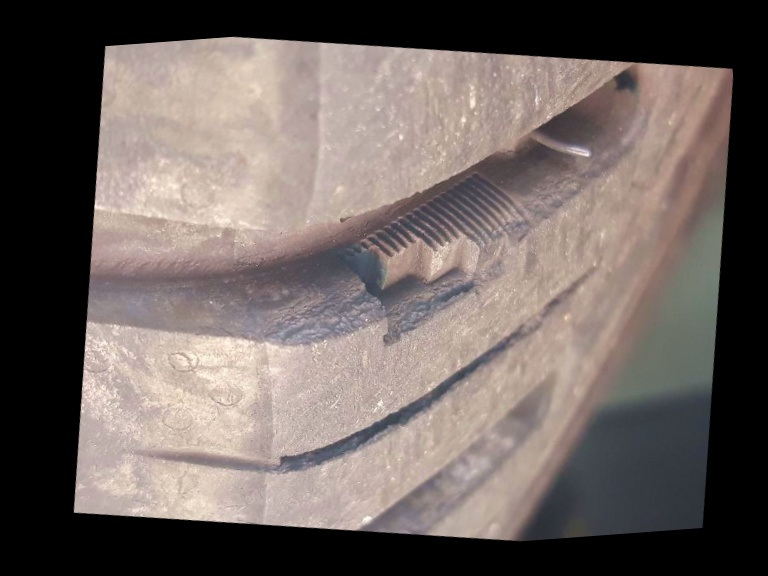temoin:80: (303, 140, 564, 387)
